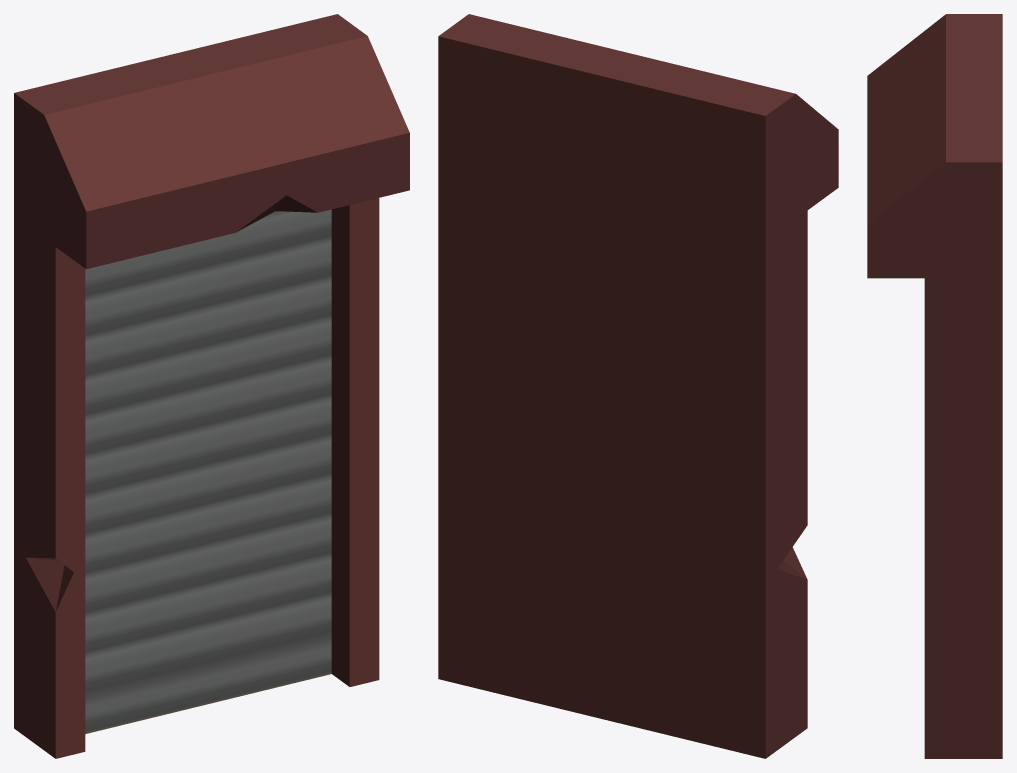
Rendered from Door_E04.fbx.
3 views of the same model, side by side, from view 1: azimuth 30°, elevation 25°; view 2: azimuth 150°, elevation 25°; view 3: azimuth 270°, elevation 25° (orthographic). The views are drawn at different scales.
Visible parts, largest first — view 1: Door_E04; view 2: Door_E04; view 3: Door_E04.
Part boxes in pixels (x1,y1,x2,y2): Door_E04: (14,14,409,758); Door_E04: (438,14,838,758); Door_E04: (867,14,1002,758).
Size of the model in its own units: 201 by 377 by 77.55.
